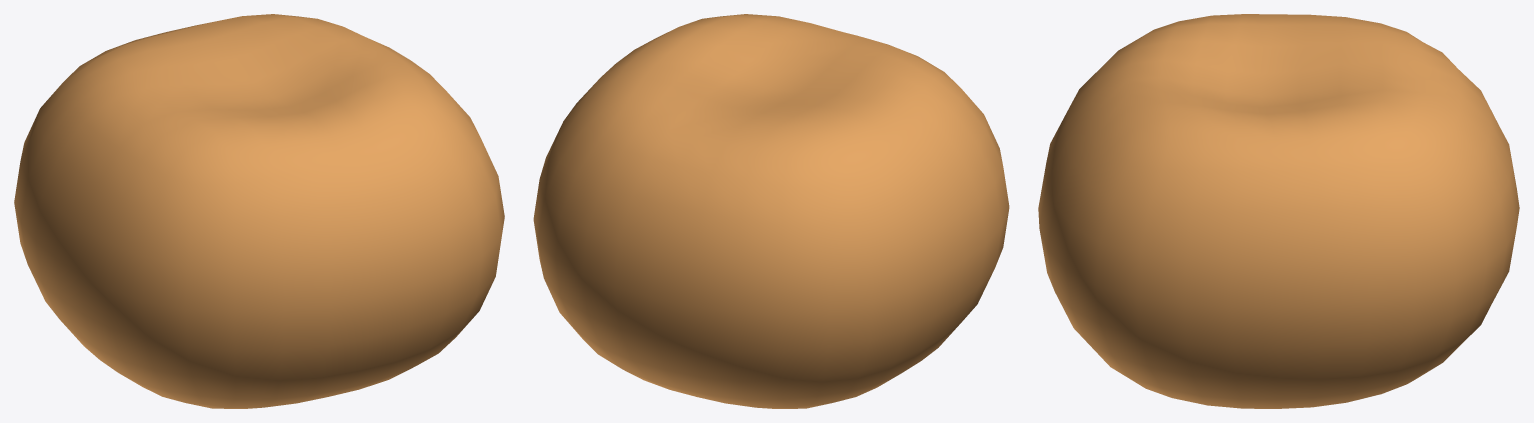
Rendered from Bush_F_01.fbx.
The picture shows the model from 3 angles, left to right: view 1: azimuth 30°, elevation 25°; view 2: azimuth 150°, elevation 25°; view 3: azimuth 270°, elevation 25°; orthographic projection. The views are drawn at different scales.
Parts seen in each view (by area): view 1: Bush_F_01_LOD0; view 2: Bush_F_01_LOD0; view 3: Bush_F_01_LOD0.
Part boxes in pixels (x1=…): Bush_F_01_LOD0: x1=14, y1=14, x2=504, y2=408; Bush_F_01_LOD0: x1=533, y1=14, x2=1009, y2=408; Bush_F_01_LOD0: x1=1038, y1=14, x2=1519, y2=408.
Size of what is drawn, in the model's own units: 467 by 333 by 482.
